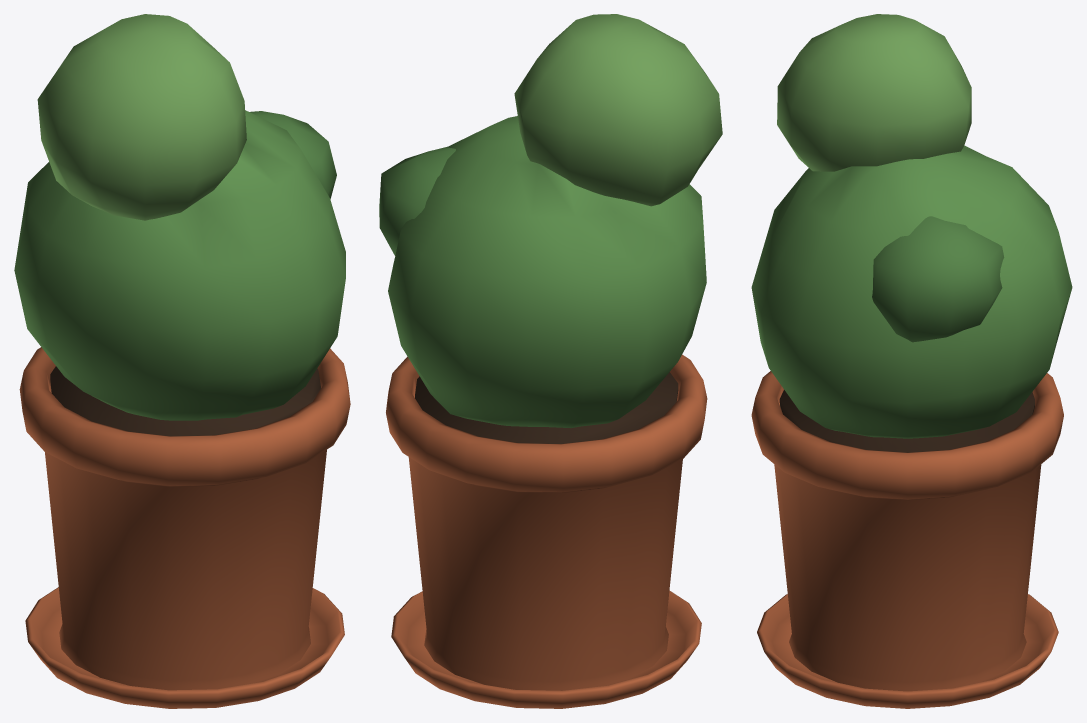
The model's file is pot.glb.
The picture shows the model from 3 angles, left to right: view 1: azimuth 30°, elevation 25°; view 2: azimuth 150°, elevation 25°; view 3: azimuth 270°, elevation 25°; orthographic projection. The views are drawn at different scales.
Visible parts, largest first — view 1: pot; view 2: pot; view 3: pot.
Boxes of the visible parts, x1=… form: pot: x1=14, y1=14, x2=350, y2=708; pot: x1=379, y1=14, x2=722, y2=708; pot: x1=751, y1=14, x2=1072, y2=708.
Bounding box in the file's own units: 0.428 × 0.8697 × 0.4209.
